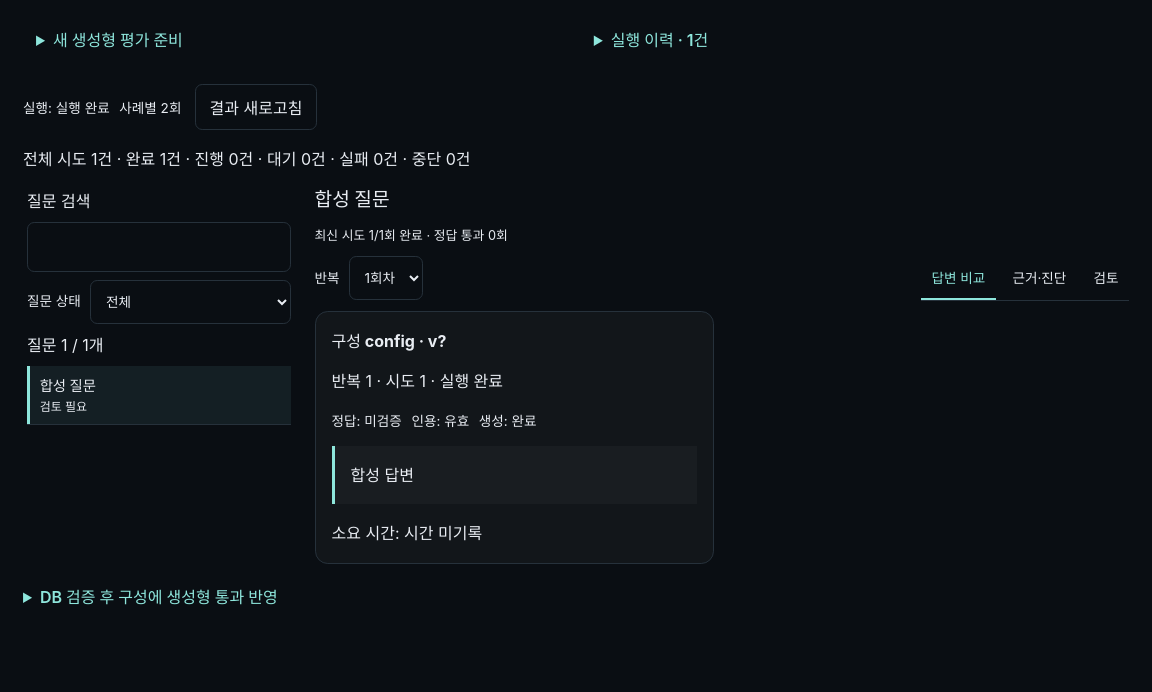
Test: groups citations by exact revision, projection and page while preserving evidence counts
This screenshot has width=1152, height=692.
Click the tab "근거·진단".
click(1039, 278)  # box [1002, 256, 1077, 300]
(page scrolled)
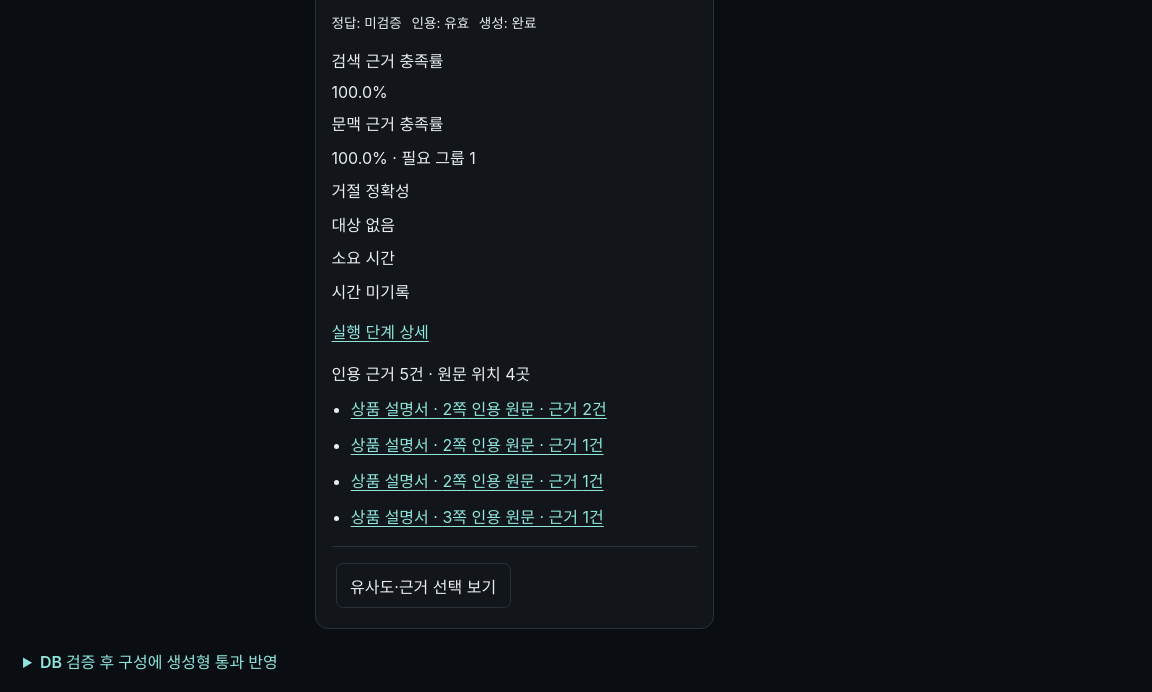
Now the text "인용 근거 5건 · 원문 위치 4곳" is shown, box [332, 364, 530, 384]
Now the number of links "상품 설명서 · 2쪽 인용 원문 · 근거 2건" is 4, box [351, 399, 607, 419]; [351, 435, 604, 455]; [351, 471, 604, 491]; [351, 507, 604, 527]
